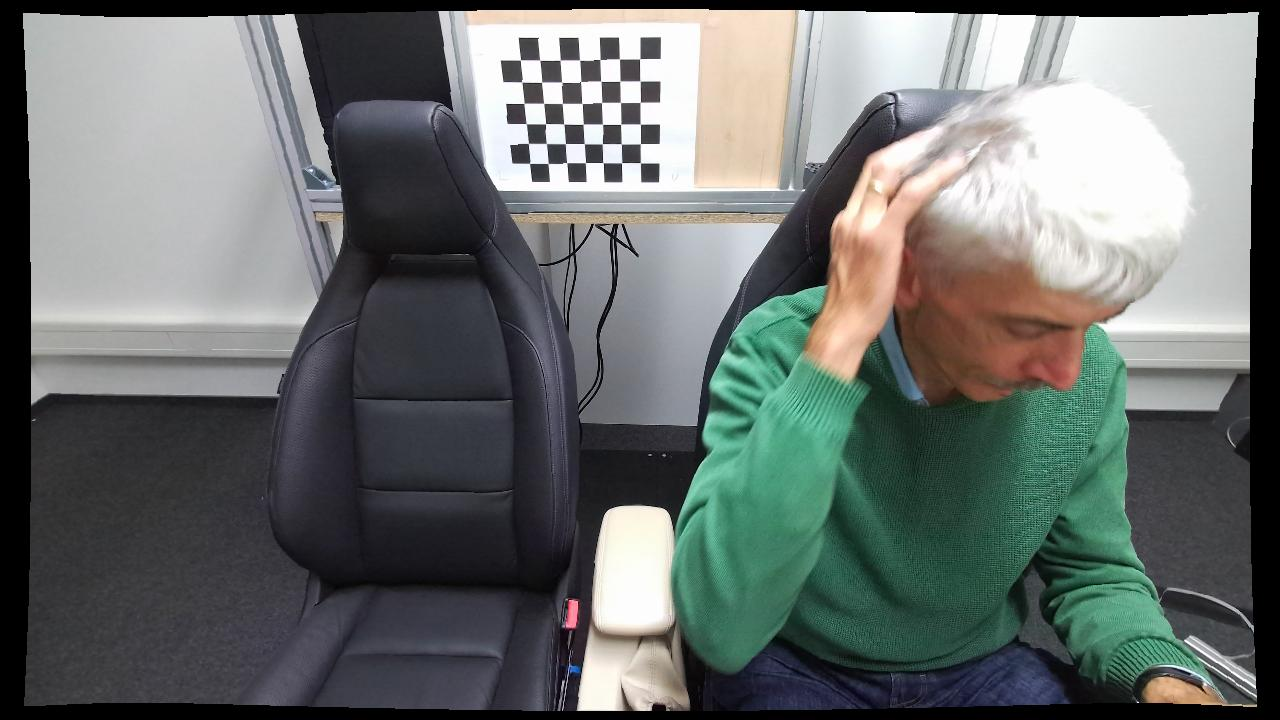Distracted: (675, 73, 1193, 713)
